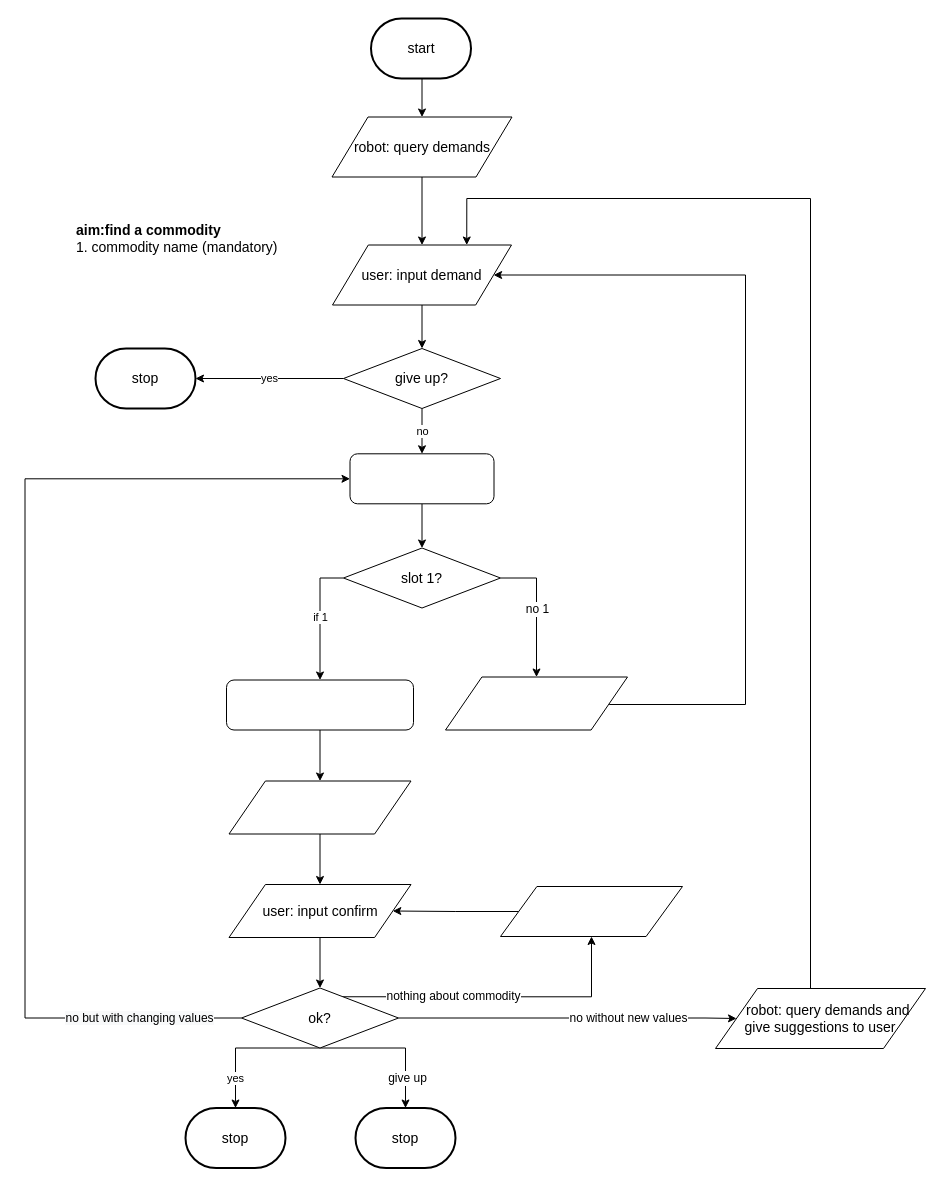
Image size: 943x1186. Some labels were removed from this diagram. Here are the shapes that lost their labels. From the top down, the box of each, then its label:
(349, 453, 494, 504): extract values and fill slots
(226, 679, 414, 730): search the market to buy, the price of the commodity and other information
(444, 676, 628, 730): robot:ask 1 and give example to user
(228, 780, 411, 834): robot:output result list and confirm
(500, 886, 682, 936): robot:give example answers(yes or no or change)
